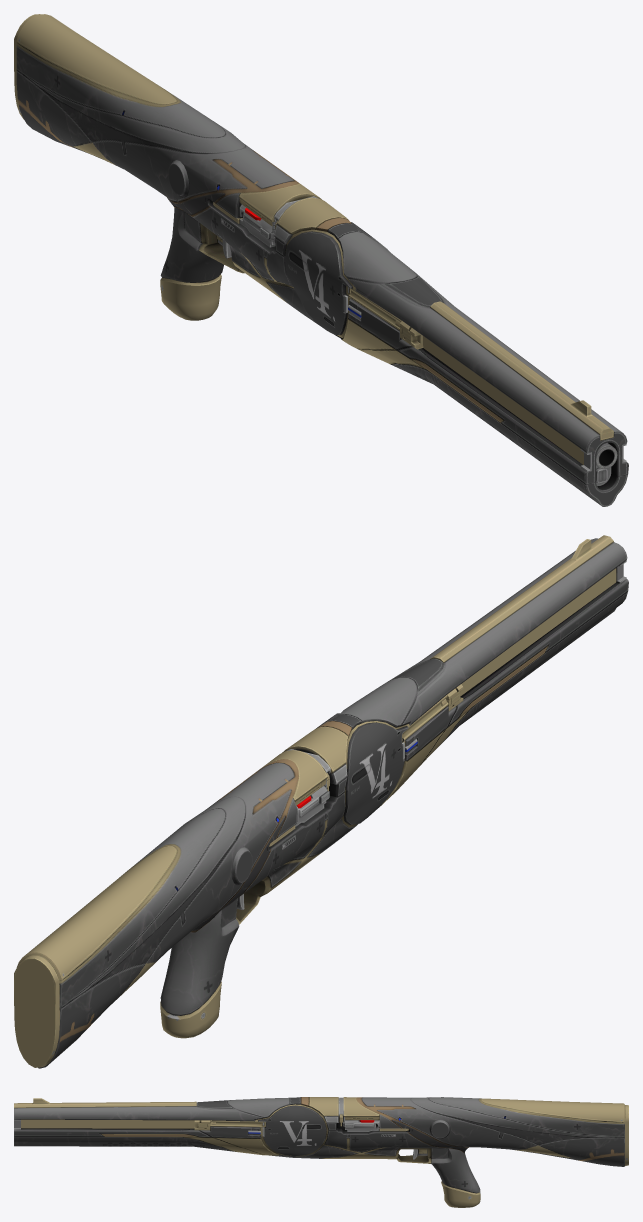
The model's file is raw.glb.
3 renders of one model, top to bottom at view 1: azimuth 30°, elevation 25°; view 2: azimuth 150°, elevation 25°; view 3: azimuth 270°, elevation 25°, orthographic. The views are drawn at different scales.
Parts seen in each view (by area): view 1: cw_SG_SSR_Cla_S004_WL_lod0; view 2: cw_SG_SSR_Cla_S004_WL_lod0; view 3: cw_SG_SSR_Cla_S004_WL_lod0.
Boxes of the visible parts, x1,y1,x2,y2 form: cw_SG_SSR_Cla_S004_WL_lod0: [14, 14, 628, 506]; cw_SG_SSR_Cla_S004_WL_lod0: [14, 535, 628, 1068]; cw_SG_SSR_Cla_S004_WL_lod0: [14, 1097, 628, 1207].
Bounding box in the file's own units: 0.0506 × 0.139 × 0.7356.
1 material, 1 textured.
